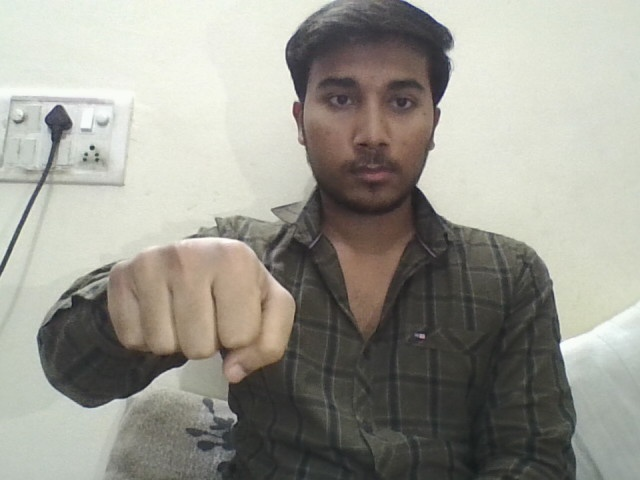yes: (85, 228, 337, 376)
